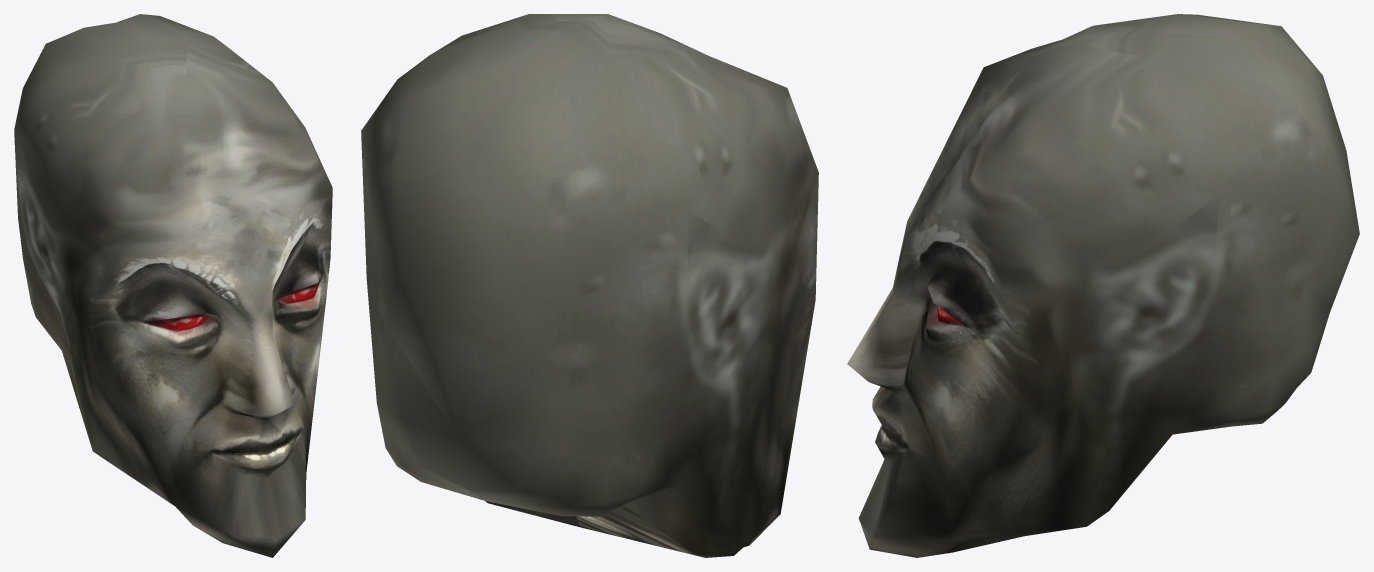
The model's file is b_n_dark elf_m_head_08.glb.
3 renders of one model, left to right at view 1: azimuth 30°, elevation 25°; view 2: azimuth 150°, elevation 25°; view 3: azimuth 270°, elevation 25°, orthographic. The views are drawn at different scales.
Visible parts, largest first — view 1: Tri B_N_Dark Elf_M_Head_08; view 2: Tri B_N_Dark Elf_M_Head_08; view 3: Tri B_N_Dark Elf_M_Head_08.
Boxes of the visible parts, box(x1,y1,x2,y2) form: Tri B_N_Dark Elf_M_Head_08: box(14, 14, 332, 557); Tri B_N_Dark Elf_M_Head_08: box(361, 14, 818, 557); Tri B_N_Dark Elf_M_Head_08: box(847, 14, 1359, 557).
Size of the model in its own units: 0.0946 by 0.1608 by 0.1435.
1 material, 1 textured.
